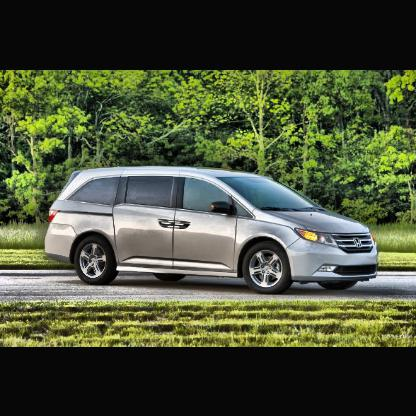Honda Odyssey Minivan 2012: (45, 168, 381, 297)
